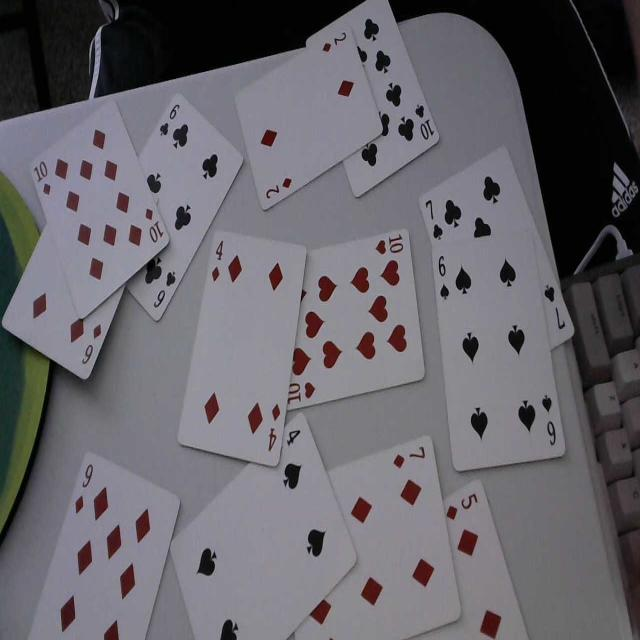10C: (414, 100, 436, 140)
10D: (144, 204, 166, 244), (34, 157, 52, 199)
10H: (374, 229, 404, 259), (286, 377, 317, 403)
2D: (264, 173, 292, 200), (321, 29, 347, 55)
4D: (266, 404, 284, 454), (211, 235, 225, 282)
5D: (444, 488, 478, 520)
6C: (153, 270, 178, 310), (158, 100, 182, 140)
6D: (80, 320, 103, 367)
6S: (540, 393, 558, 452), (437, 252, 451, 302)
7C: (542, 282, 569, 335), (424, 194, 446, 245)
7D: (394, 446, 426, 470)
9D: (72, 462, 94, 516)
